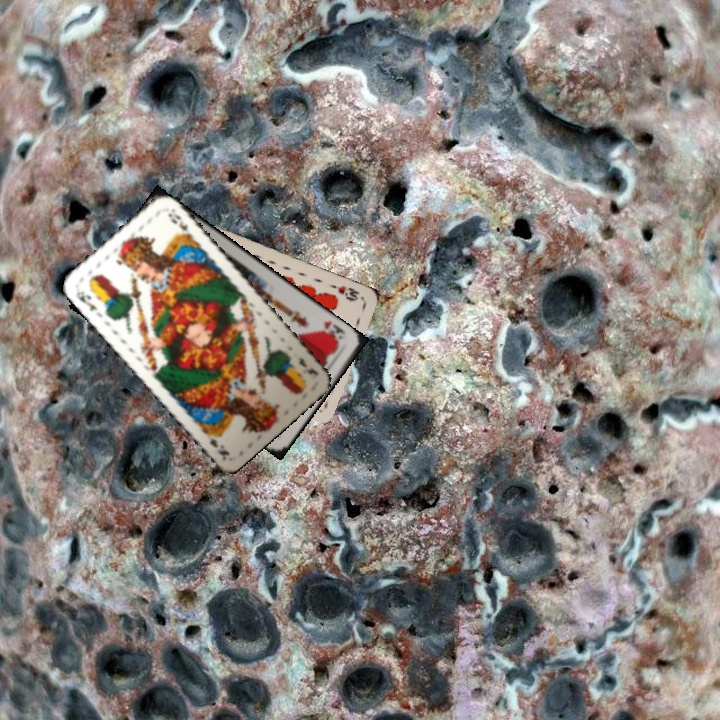EK: (72, 286, 100, 313), (294, 352, 321, 378)
H10: (325, 280, 363, 303)
HK: (317, 316, 348, 346)
